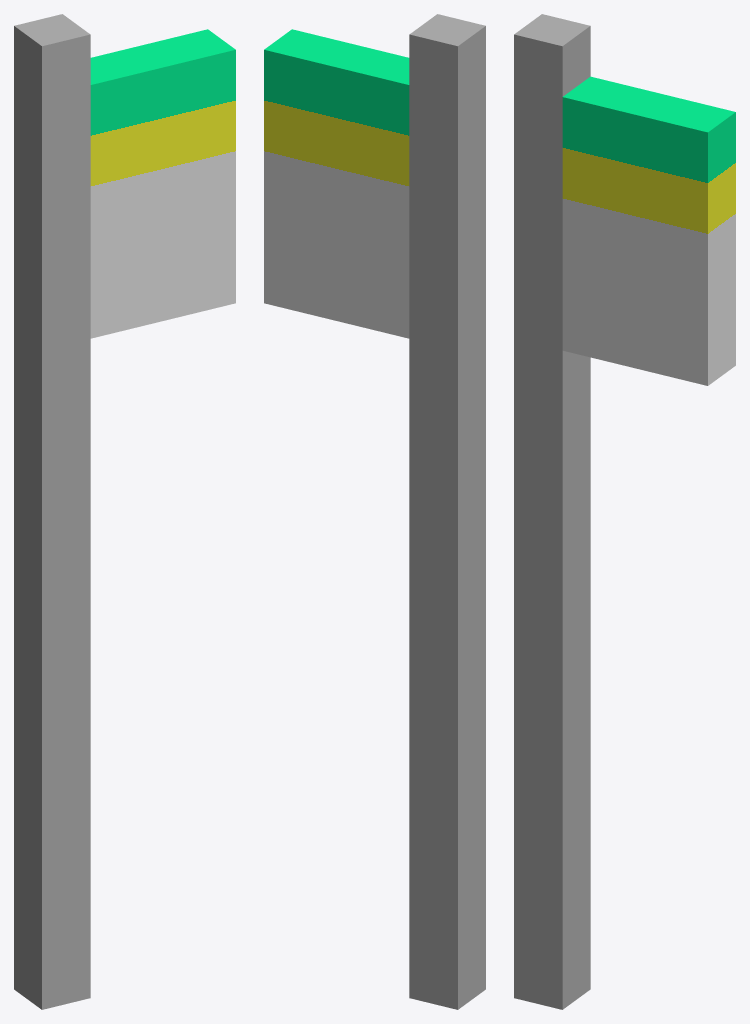
File: obj_sign1.fbx
The picture shows the model from 3 angles, left to right: view 1: azimuth 30°, elevation 25°; view 2: azimuth 150°, elevation 25°; view 3: azimuth 330°, elevation 25°; orthographic projection.
Parts seen in each view (by area): view 1: obj_sign1; view 2: obj_sign1; view 3: obj_sign1.
Boxes of the visible parts, x1,y1,x2,y2 form: obj_sign1: [14, 14, 235, 1009]; obj_sign1: [264, 14, 485, 1009]; obj_sign1: [514, 14, 735, 1009].
Bounding box in the file's own units: 0.4 × 0.1 × 1.9.
Materials: 1 (1 with a texture image).
